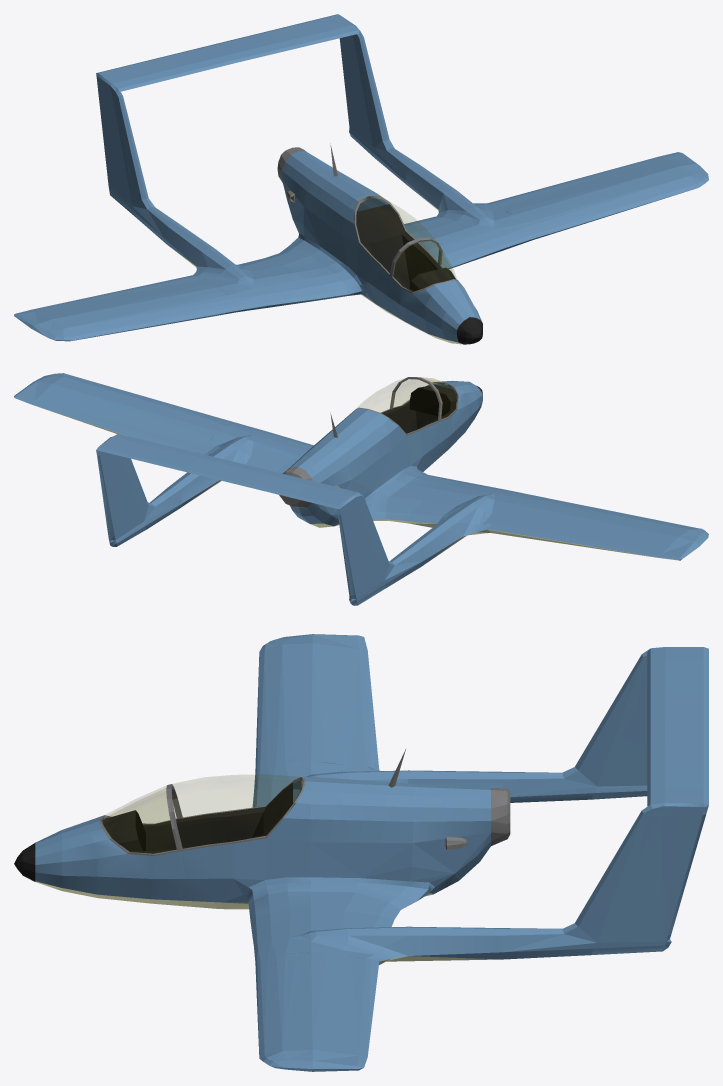
The model's file is aircraft_5.glb.
3 views of the same model, one above another, from view 1: azimuth 30°, elevation 25°; view 2: azimuth 150°, elevation 25°; view 3: azimuth 270°, elevation 25° (orthographic). The views are drawn at different scales.
Visible parts, largest first — view 1: body, outer wing left, outer wing right, elevator, aileron left, aileron right, canopy, rudder left, rudder right, instrument panel; view 2: body, outer wing left, outer wing right, elevator, aileron right, aileron left, rudder left, rudder right, instrument panel, canopy; view 3: body, outer wing right, outer wing left, elevator, canopy, aileron right, aileron left, rudder right, instrument panel.
Boxes of the visible parts, left/top/right/bottom form: body: left=108, top=25, right=548, bottom=344; outer wing left: left=488, top=157, right=708, bottom=235; outer wing right: left=22, top=275, right=228, bottom=341; elevator: left=96, top=14, right=355, bottom=92; aileron left: left=517, top=152, right=688, bottom=201; aileron right: left=14, top=281, right=180, bottom=321; canopy: left=354, top=195, right=439, bottom=275; rudder left: left=97, top=82, right=110, bottom=182; rudder right: left=339, top=35, right=351, bottom=123; instrument panel: left=409, top=267, right=456, bottom=291; body: left=108, top=377, right=545, bottom=605; outer wing left: left=23, top=373, right=228, bottom=452; outer wing right: left=488, top=497, right=708, bottom=552; elevator: left=96, top=436, right=356, bottom=514; aileron right: left=517, top=519, right=690, bottom=560; aileron left: left=14, top=389, right=180, bottom=445; rudder left: left=338, top=504, right=357, bottom=595; rudder right: left=97, top=452, right=116, bottom=536; instrument panel: left=409, top=384, right=456, bottom=416; canopy: left=358, top=377, right=441, bottom=435; body: left=14, top=647, right=671, bottom=970; outer wing right: left=255, top=634, right=379, bottom=769; outer wing left: left=255, top=952, right=379, bottom=1071; elevator: left=663, top=647, right=708, bottom=815; canopy: left=168, top=775, right=305, bottom=849; aileron right: left=337, top=635, right=377, bottom=749; aileron left: left=337, top=971, right=377, bottom=1070; rudder right: left=663, top=814, right=705, bottom=935; instrument panel: left=102, top=810, right=145, bottom=851.
Bounding box in the file's own units: 13.53 × 2.62 × 9.16.
